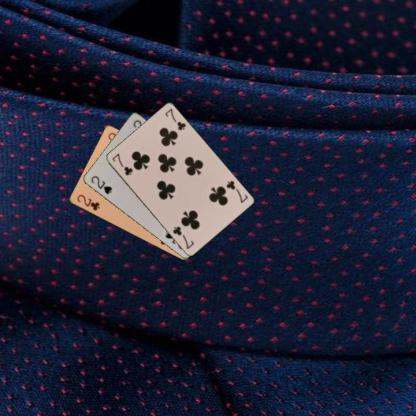2c: (74, 192, 101, 212)
2s: (88, 173, 113, 196)
7c: (109, 151, 134, 177), (224, 178, 249, 204)
